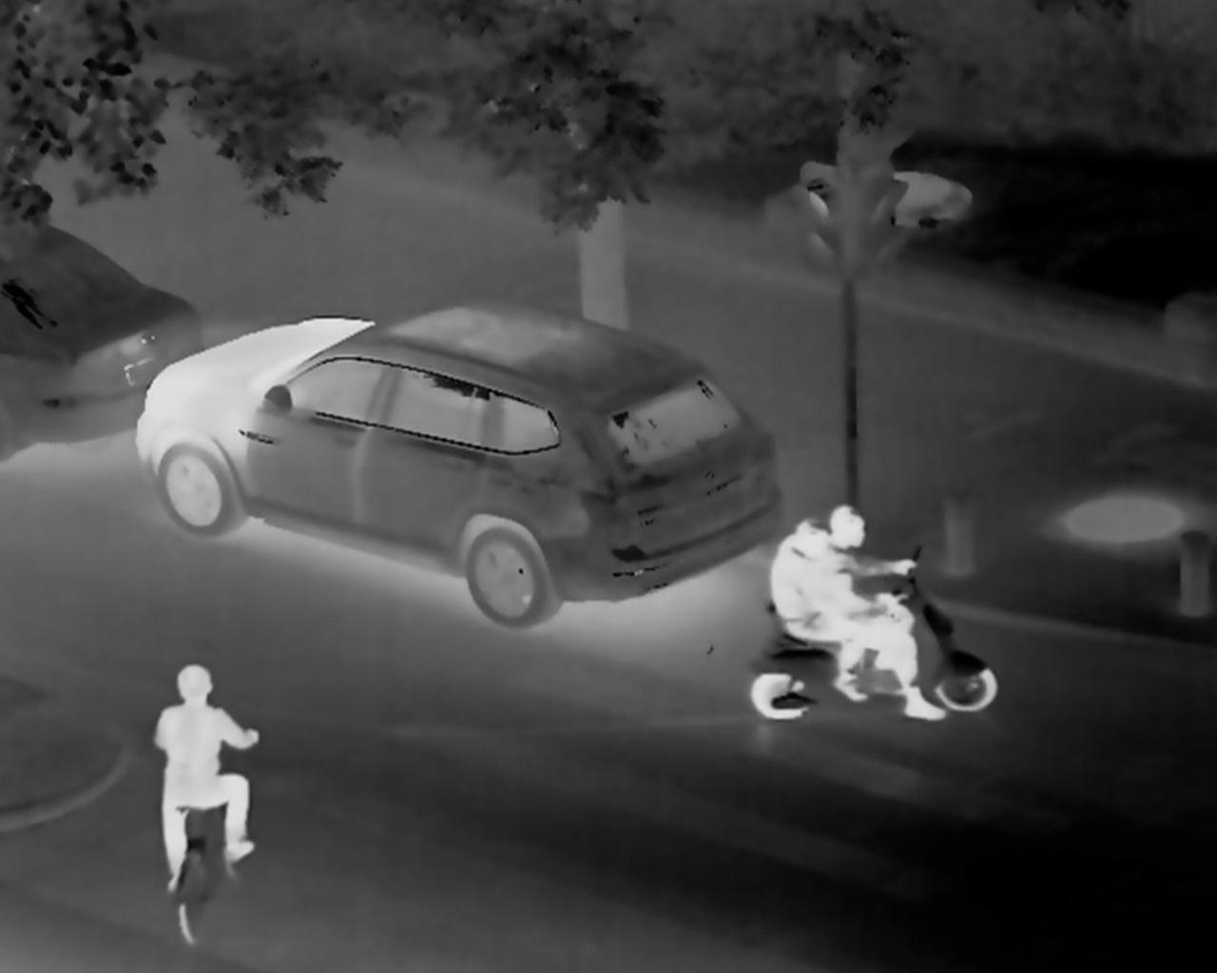person: (803, 500, 950, 725), (148, 658, 261, 895), (764, 517, 875, 705)
